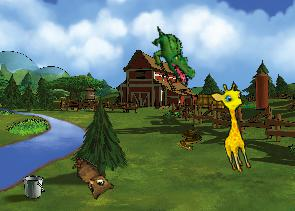crocodile: (138, 24, 207, 88)
giraffe: (208, 80, 262, 175)
owl: (63, 155, 117, 204)
